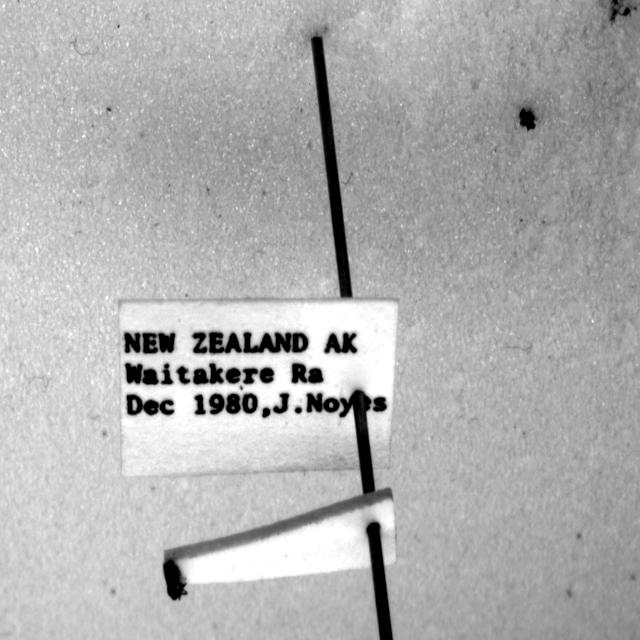typed_label: (119, 298, 398, 476)
